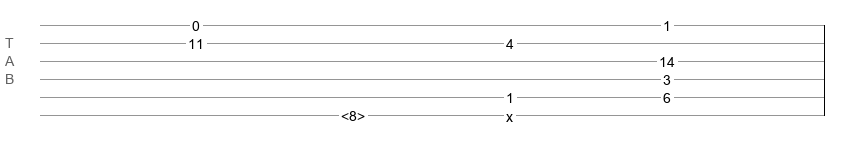0: (192, 18, 200, 28)
1: (506, 90, 514, 100), (663, 18, 671, 28)
11: (188, 36, 204, 46)
14: (659, 54, 675, 64)
3: (663, 72, 671, 82)
4: (506, 36, 514, 46)
6: (663, 90, 671, 100)
harmonic: (341, 108, 365, 118)
x: (506, 109, 513, 117)
